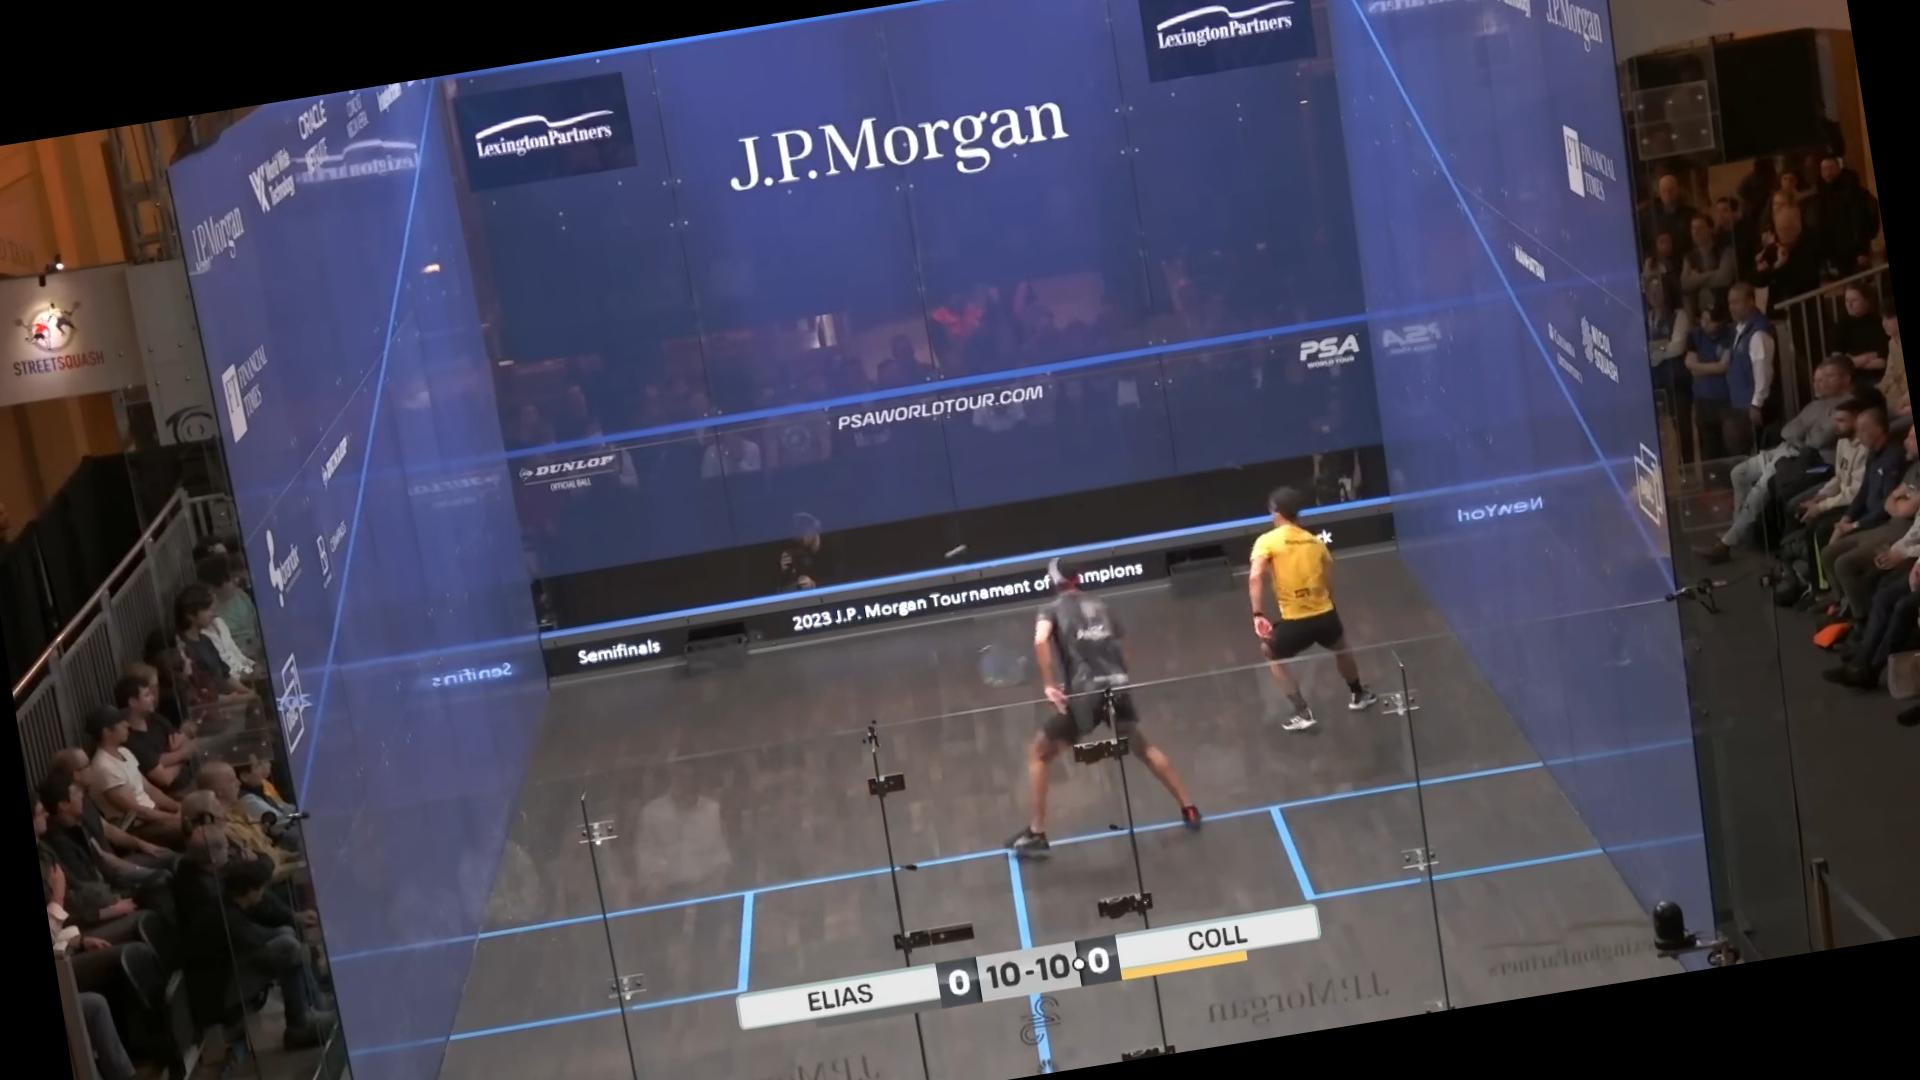Racket: (956, 626, 1042, 695)
